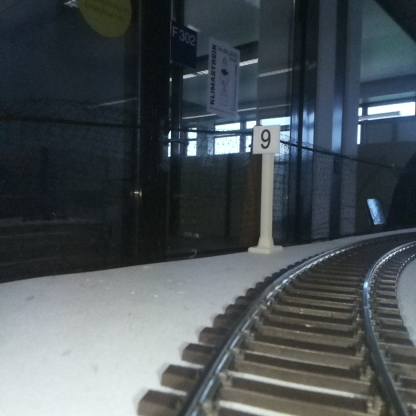white-info-9: (253, 125, 279, 251)
